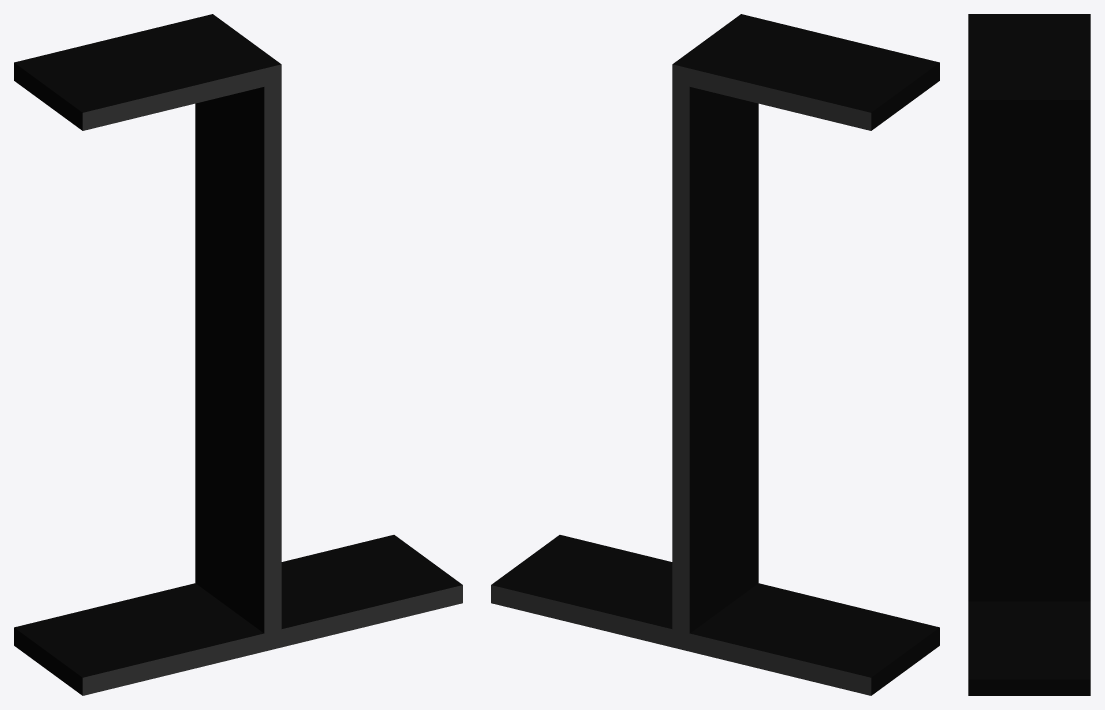
The picture shows the model from 3 angles, left to right: view 1: azimuth 30°, elevation 25°; view 2: azimuth 150°, elevation 25°; view 3: azimuth 270°, elevation 25°; orthographic projection. The views are drawn at different scales.
Parts seen in each view (by area): view 1: 1_AlphaProta_Black; view 2: 1_AlphaProta_Black; view 3: 1_AlphaProta_Black.
Boxes of the visible parts, left/top/right/bottom form: 1_AlphaProta_Black: left=14, top=14, right=462, bottom=695; 1_AlphaProta_Black: left=491, top=14, right=939, bottom=695; 1_AlphaProta_Black: left=968, top=14, right=1090, bottom=695.
Size of what is drawn, in the model's own units: 0.1436 by 0.2105 by 0.045.
Materials: 2 (2 with a texture image).
